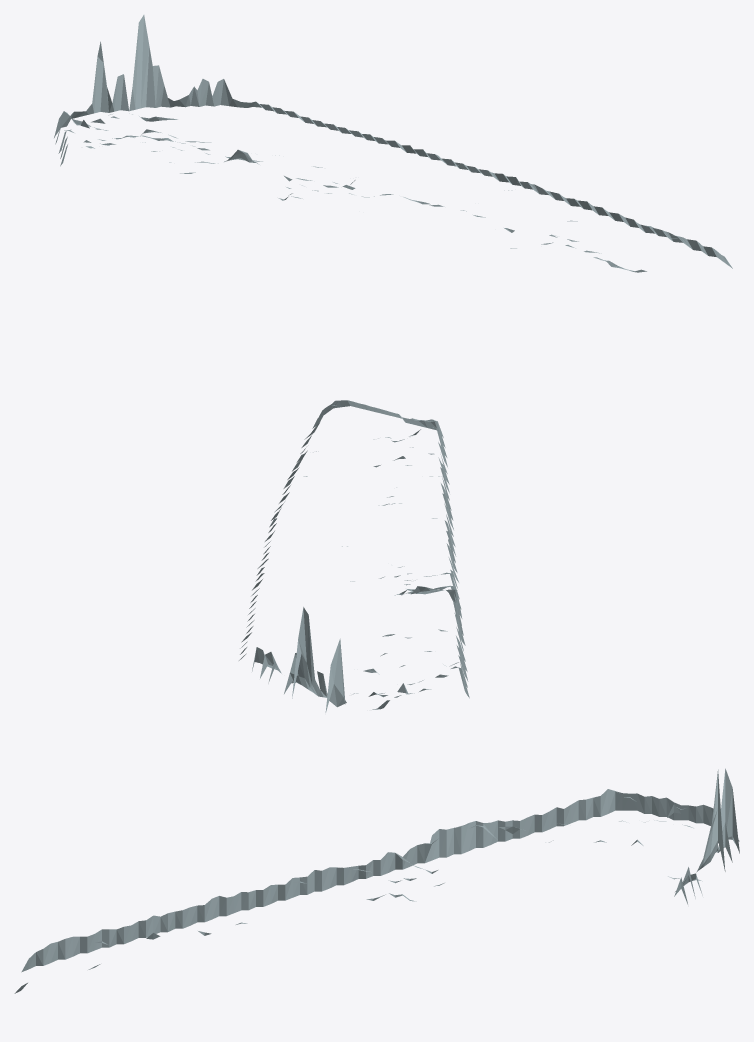
3 views of the same model, one above another, from view 1: azimuth 30°, elevation 25°; view 2: azimuth 150°, elevation 25°; view 3: azimuth 270°, elevation 25° (orthographic). The views are drawn at different scales.
Parts seen in each view (by area): view 1: Renderer Node; view 2: Renderer Node; view 3: Renderer Node.
Boxes of the visible parts, x1,y1,x2,y2 form: Renderer Node: [54, 15, 732, 272]; Renderer Node: [239, 400, 469, 712]; Renderer Node: [14, 768, 739, 993].
Size of the model in its own units: 190 by 43.7 by 268.
